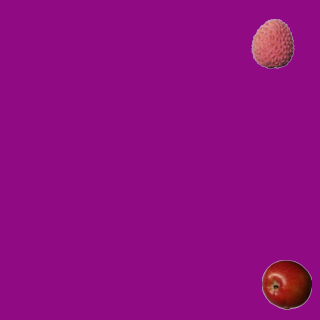Apple Braeburn: (261, 259, 311, 309)
Lychee: (247, 18, 297, 68)
